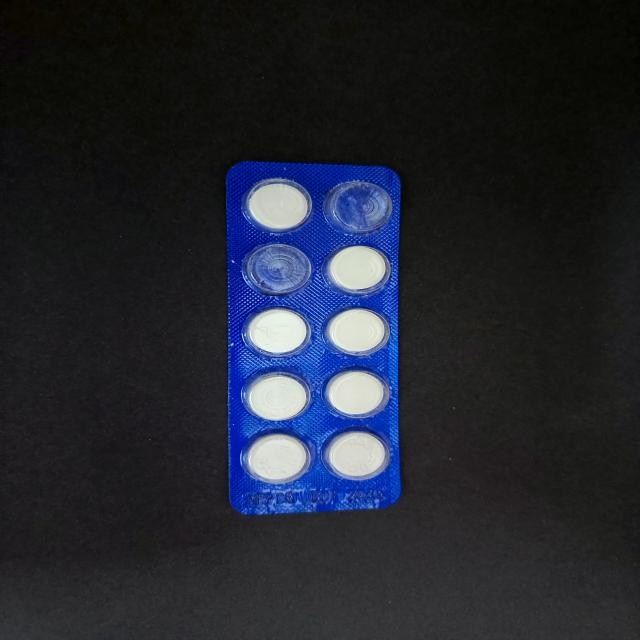defect: (320, 179, 395, 238), (242, 239, 314, 298)
